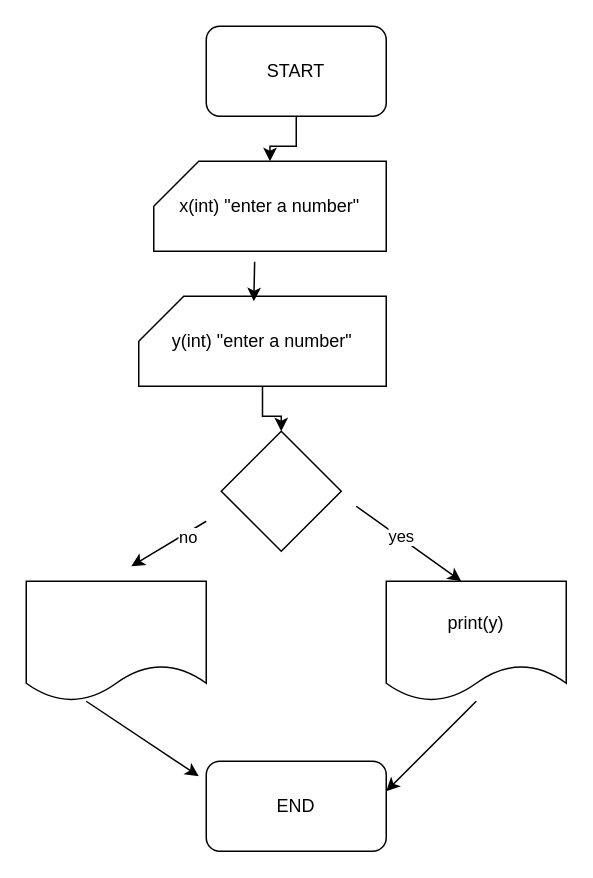
This 593x878 diagram has some shape labels left out. The centre of each missing label's shape, as x and y in pixels:
"print(x)" belongs at point (115, 640).
"x > y" belongs at point (280, 490).
